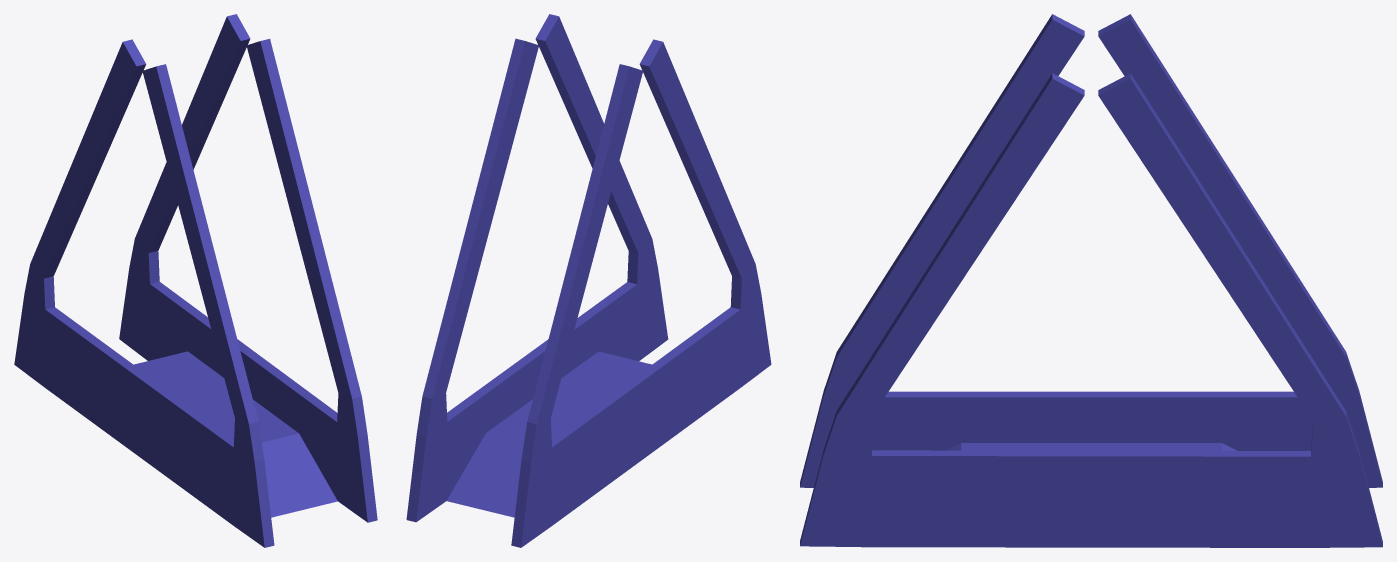
File: DC_Raccoon_Ferris_Wheel_Base.fbx
3 renders of one model, left to right at view 1: azimuth 30°, elevation 25°; view 2: azimuth 150°, elevation 25°; view 3: azimuth 270°, elevation 25°, orthographic. The views are drawn at different scales.
Visible parts, largest first — view 1: Cube.002; view 2: Cube.002; view 3: Cube.002.
Part boxes in pixels (bbox=[...]): Cube.002: bbox=[14, 14, 377, 547]; Cube.002: bbox=[406, 14, 771, 547]; Cube.002: bbox=[800, 14, 1382, 547].
Size of the model in its own units: 137 by 461 by 519.
